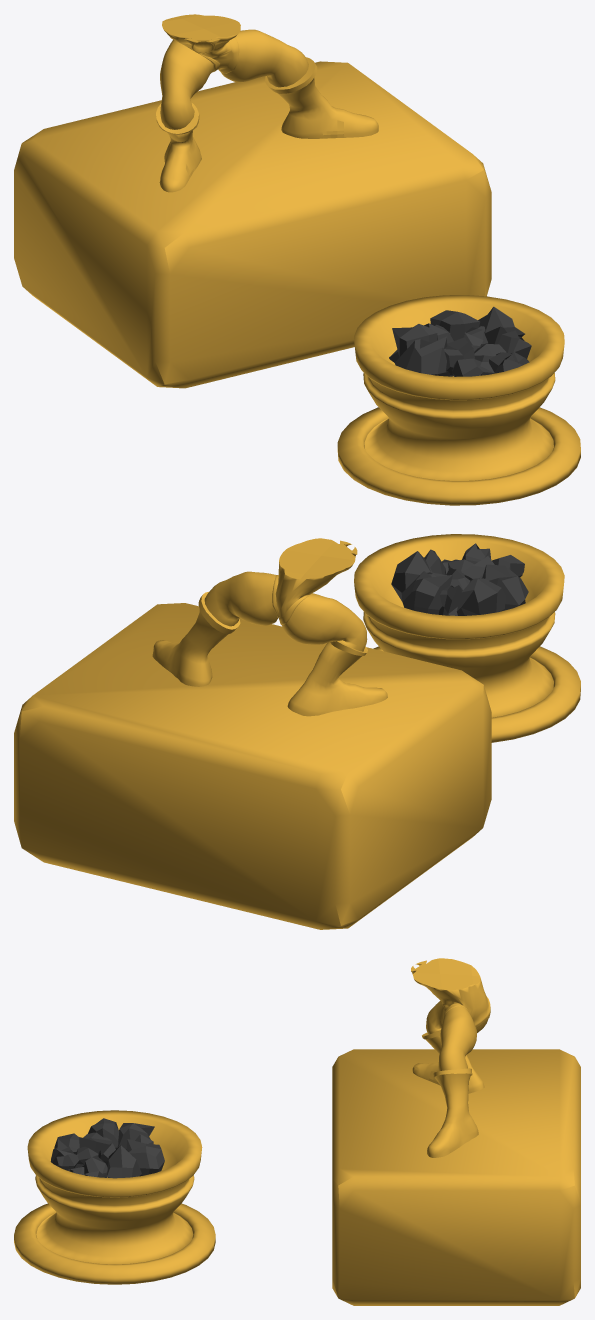
The model's file is Zapman_Statue.fbx.
3 views of the same model, one above another, from view 1: azimuth 30°, elevation 25°; view 2: azimuth 150°, elevation 25°; view 3: azimuth 270°, elevation 25° (orthographic). The views are drawn at different scales.
Visible parts, largest first — view 1: Base_Statue.003, Sphere.007, CHARACTER - LEGS - CYRUS.003, CHARACTER - TORSO - CYRUS.004, Cube.115, Cube.108, Cube.114, Cube.107, Cube.111, Cube.117; view 2: Base_Statue.003, Sphere.007, CHARACTER - LEGS - CYRUS.003, CHARACTER - TORSO - CYRUS.004, Cube.107, Cube.108, Cube.115, Cube.114, Cube.116; view 3: Base_Statue.003, Sphere.007, CHARACTER - LEGS - CYRUS.003, CHARACTER - TORSO - CYRUS.004, Cube.108, Cube.114, Cube.107, Cube.115, Cube.109.
Part boxes in pixels (x1,y1,x2,y2): Base_Statue.003: (14,61,491,388); Sphere.007: (337,295,580,505); CHARACTER - LEGS - CYRUS.003: (156,29,378,192); CHARACTER - TORSO - CYRUS.004: (162,14,240,73); Cube.115: (395,336,450,376); Cube.108: (430,310,480,340); Cube.114: (478,306,524,344); Cube.107: (389,324,437,362); Cube.111: (444,337,474,376); Cube.117: (452,358,494,376); Base_Statue.003: (14,603,491,929); Sphere.007: (354,534,580,742); CHARACTER - LEGS - CYRUS.003: (152,571,387,716); CHARACTER - TORSO - CYRUS.004: (272,538,357,624); Cube.107: (456,578,506,615); Cube.108: (401,571,452,614); Cube.115: (482,564,528,611); Cube.114: (391,551,430,601); Cube.116: (438,585,462,615); Base_Statue.003: (332,1049,580,1305); Sphere.007: (14,1110,215,1284); CHARACTER - LEGS - CYRUS.003: (412,1001,488,1157); CHARACTER - TORSO - CYRUS.004: (411,958,490,1028); Cube.108: (126,1139,164,1175); Cube.114: (107,1145,141,1178); Cube.107: (117,1123,154,1149); Cube.115: (88,1118,119,1149); Cube.109: (50,1149,78,1170).
Size of the model in its own units: 241 by 204 by 426.
